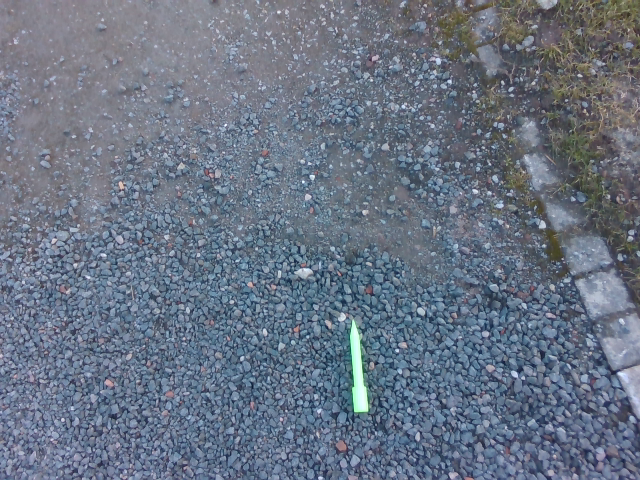Probe: (348, 308, 369, 420)
